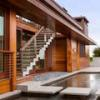stairs: (13, 30, 55, 74)
